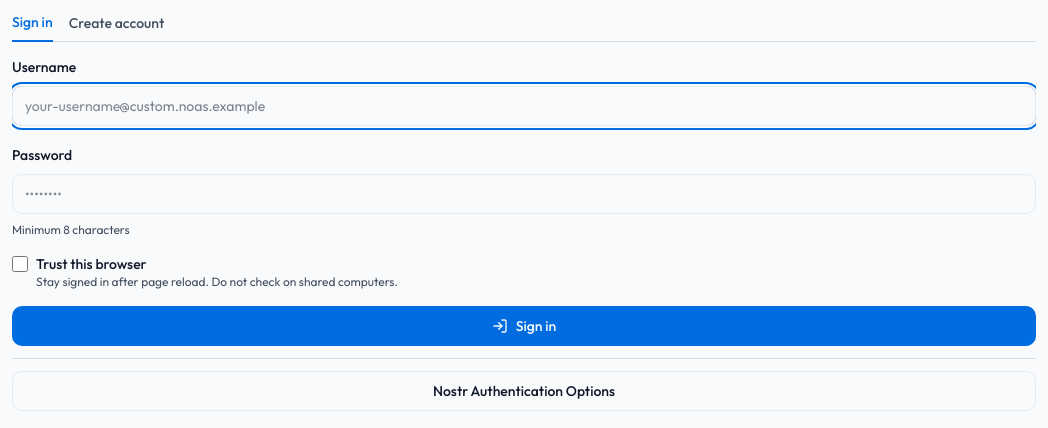
Test case: Noas auth forms › fills in the default host on submit-button press before sign-in submit
Type "alice" into the field labelled "Username".
click(524, 106); type("alice")  # box 12,86 -> 1036,126
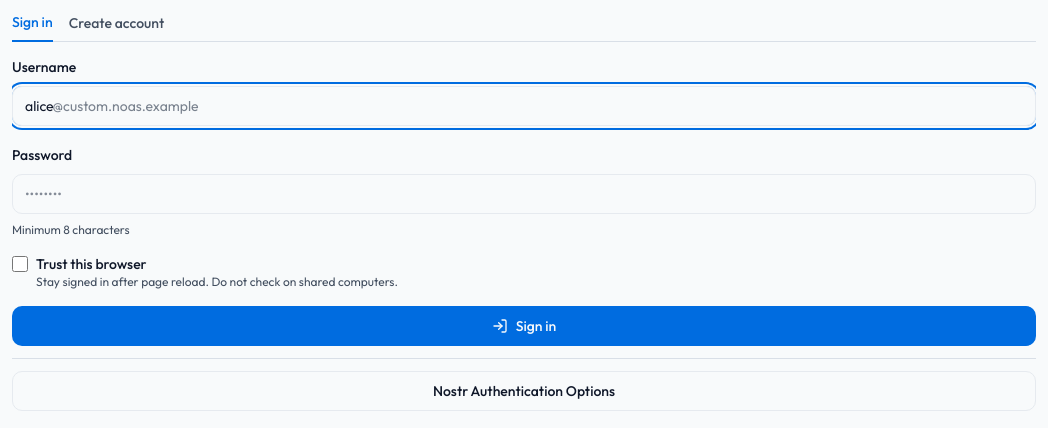
Press the mouse on the button with test id "noas-auth-submit" at (524, 326), box 12,306 -> 1036,346
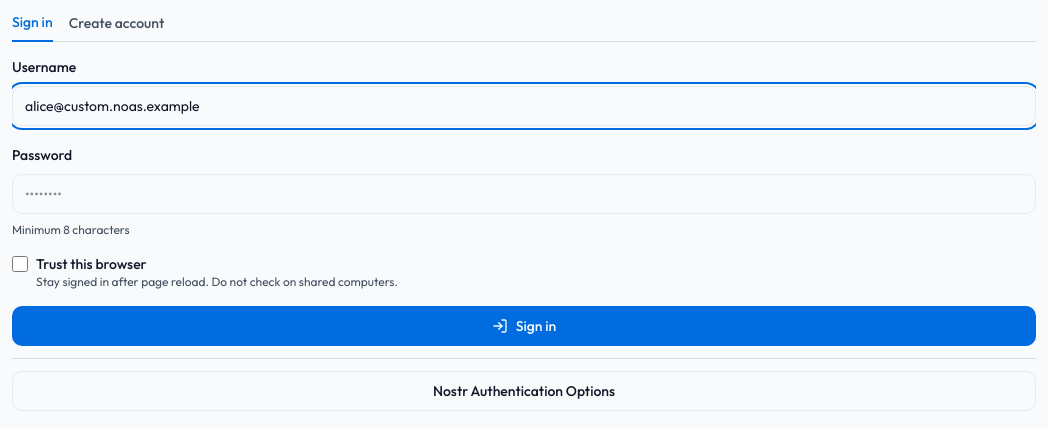
Now the field labelled "Username" holds "alice@custom.noas.example", box 12,86 -> 1036,126
